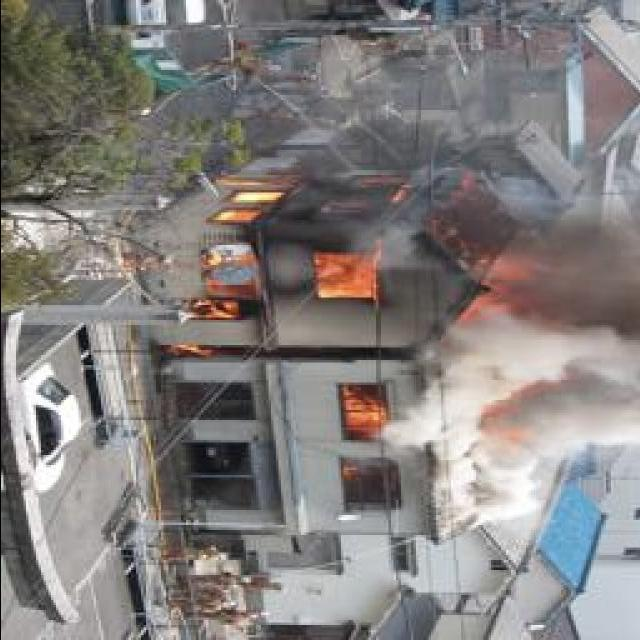Fire: (91, 172, 518, 362), (339, 386, 388, 486)
